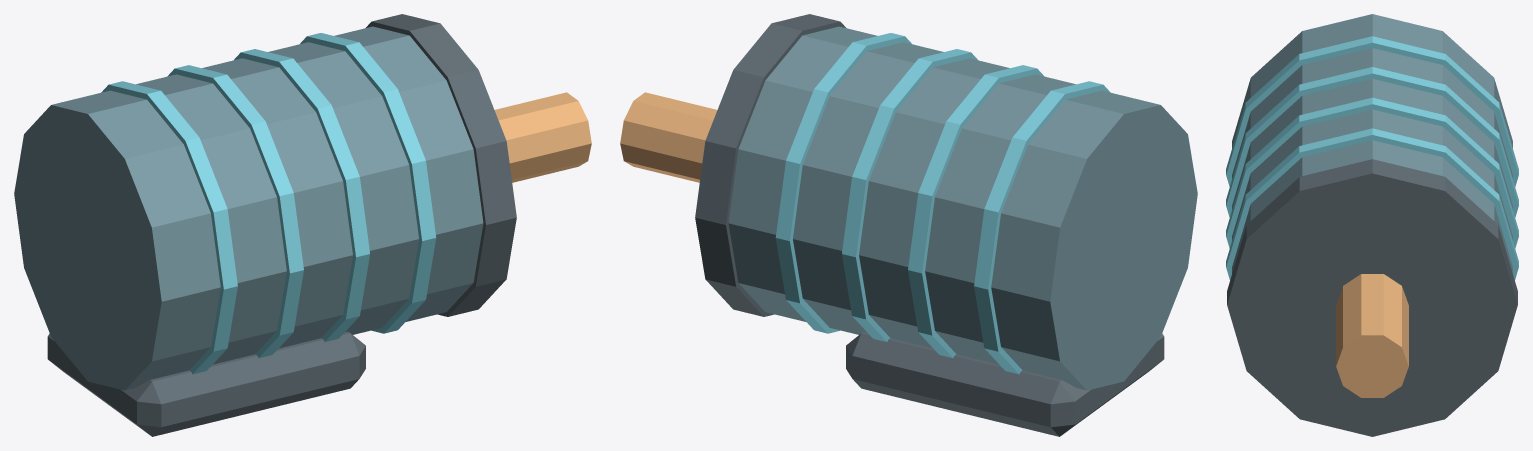
File: FTF_Advanced_HighPerformanceMotor.glb
3 views of the same model, side by side, from view 1: azimuth 30°, elevation 25°; view 2: azimuth 150°, elevation 25°; view 3: azimuth 270°, elevation 25° (orthographic). The views are drawn at different scales.
Parts seen in each view (by area): view 1: MotorHousing, MotorFoot, MotorFrontCap, MotorShaft, CoolingBand_0.23, CoolingBand_0.08, CoolingBand_-0.22, CoolingBand_-0.07; view 2: MotorHousing, MotorFoot, MotorFrontCap, MotorShaft, CoolingBand_0.23, CoolingBand_0.08, CoolingBand_-0.22, CoolingBand_-0.07; view 3: MotorFrontCap, MotorHousing, MotorShaft, CoolingBand_0.23, CoolingBand_-0.22, CoolingBand_0.08, CoolingBand_-0.07.
Boxes of the visible parts, bbox=[...] form: MotorHousing: bbox=[14, 26, 483, 390]; MotorFoot: bbox=[47, 331, 365, 436]; MotorFrontCap: bbox=[366, 14, 516, 316]; MotorShaft: bbox=[494, 92, 591, 182]; CoolingBand_0.23: bbox=[300, 33, 436, 333]; CoolingBand_0.08: bbox=[234, 49, 369, 341]; CoolingBand_-0.22: bbox=[101, 81, 237, 374]; CoolingBand_-0.07: bbox=[167, 65, 303, 358]; MotorHousing: bbox=[728, 26, 1197, 390]; MotorFoot: bbox=[846, 331, 1164, 436]; MotorFrontCap: bbox=[695, 14, 845, 316]; MotorShaft: bbox=[620, 92, 717, 182]; CoolingBand_0.23: bbox=[775, 33, 911, 333]; CoolingBand_0.08: bbox=[842, 49, 977, 341]; CoolingBand_-0.22: bbox=[974, 81, 1110, 374]; CoolingBand_-0.07: bbox=[908, 65, 1044, 358]; MotorFrontCap: bbox=[1227, 159, 1517, 436]; MotorHousing: bbox=[1232, 14, 1512, 273]; MotorShaft: bbox=[1336, 274, 1408, 397]; CoolingBand_0.23: bbox=[1226, 128, 1518, 280]; CoolingBand_-0.22: bbox=[1226, 36, 1518, 186]; CoolingBand_0.08: bbox=[1226, 97, 1518, 248]; CoolingBand_-0.07: bbox=[1226, 67, 1518, 217].
Bounding box in the file's own units: 1.1 × 0.652 × 0.604.
